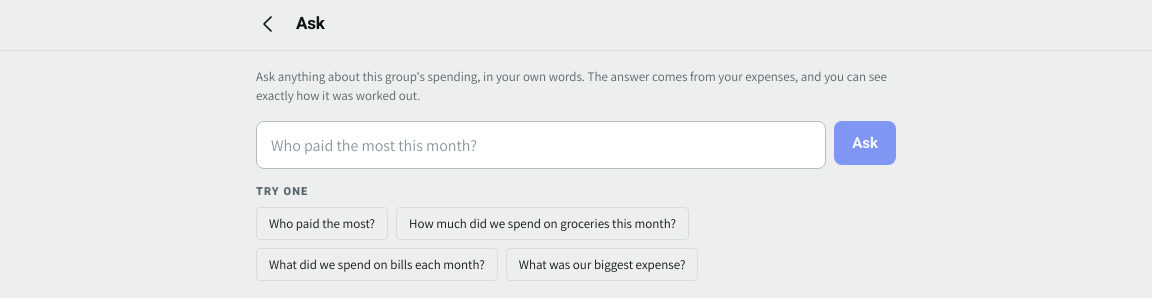
Test case: asking a question (9.9) › a question the server refuses says why
What coordinates should you click on to do the following:
click the button "Who paid the most?"
I would click on:
 (322, 224)
Its box is top-left (256, 207), bottom-right (388, 240).
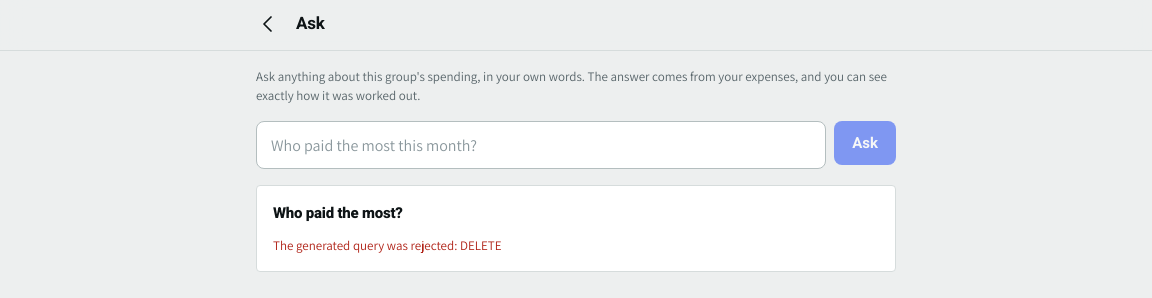
Check: the message shows "The generated query was rejected", box top-left (273, 237), bottom-right (502, 254)
